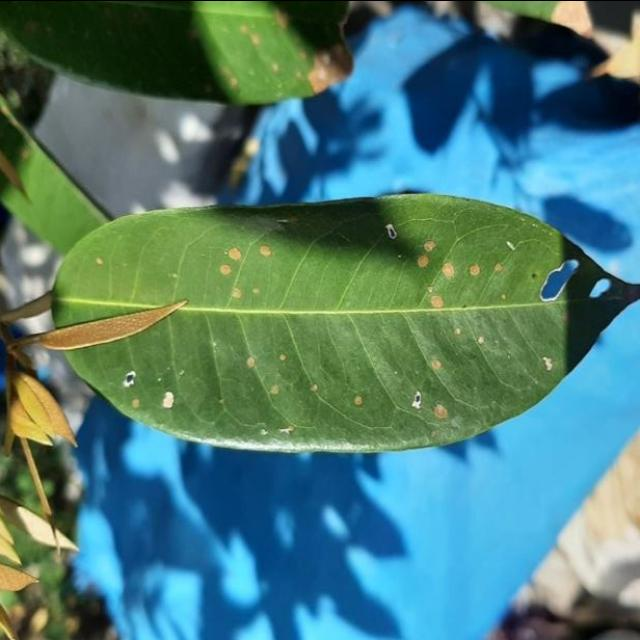Algal Leaf Spot: (24, 153, 640, 457)
